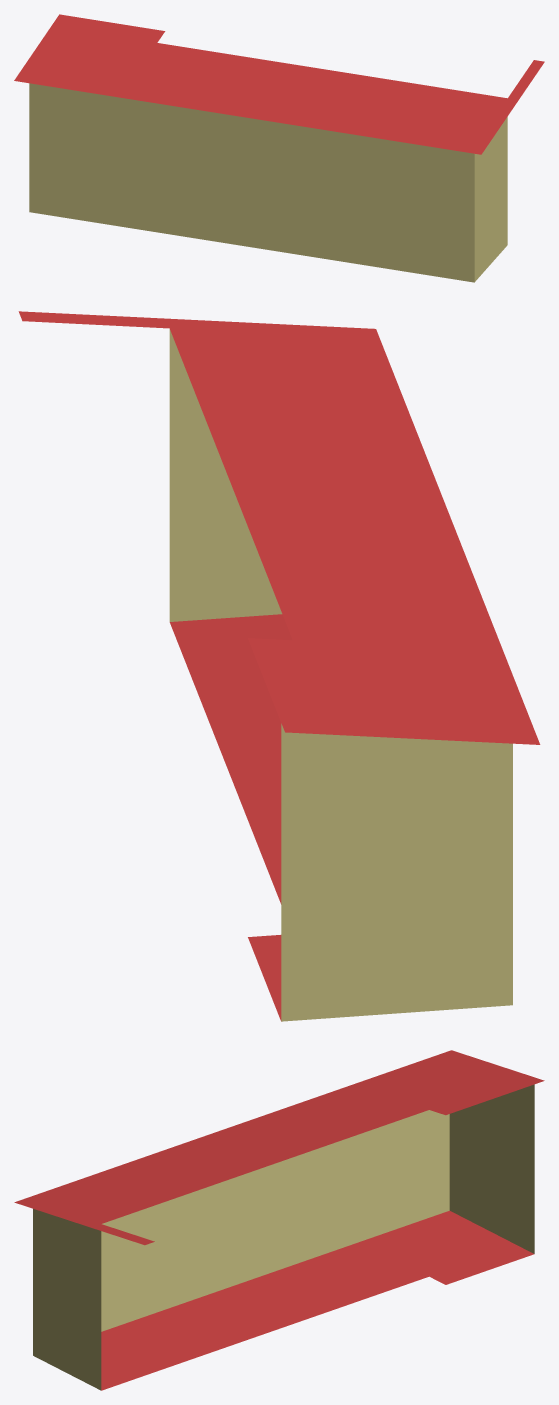
3 views of the same model, one above another, from view 1: azimuth 30°, elevation 25°; view 2: azimuth 150°, elevation 25°; view 3: azimuth 270°, elevation 25° (orthographic). The views are drawn at different scales.
Size of the model in its own units: 19.28 by 19.71 by 7.24.
